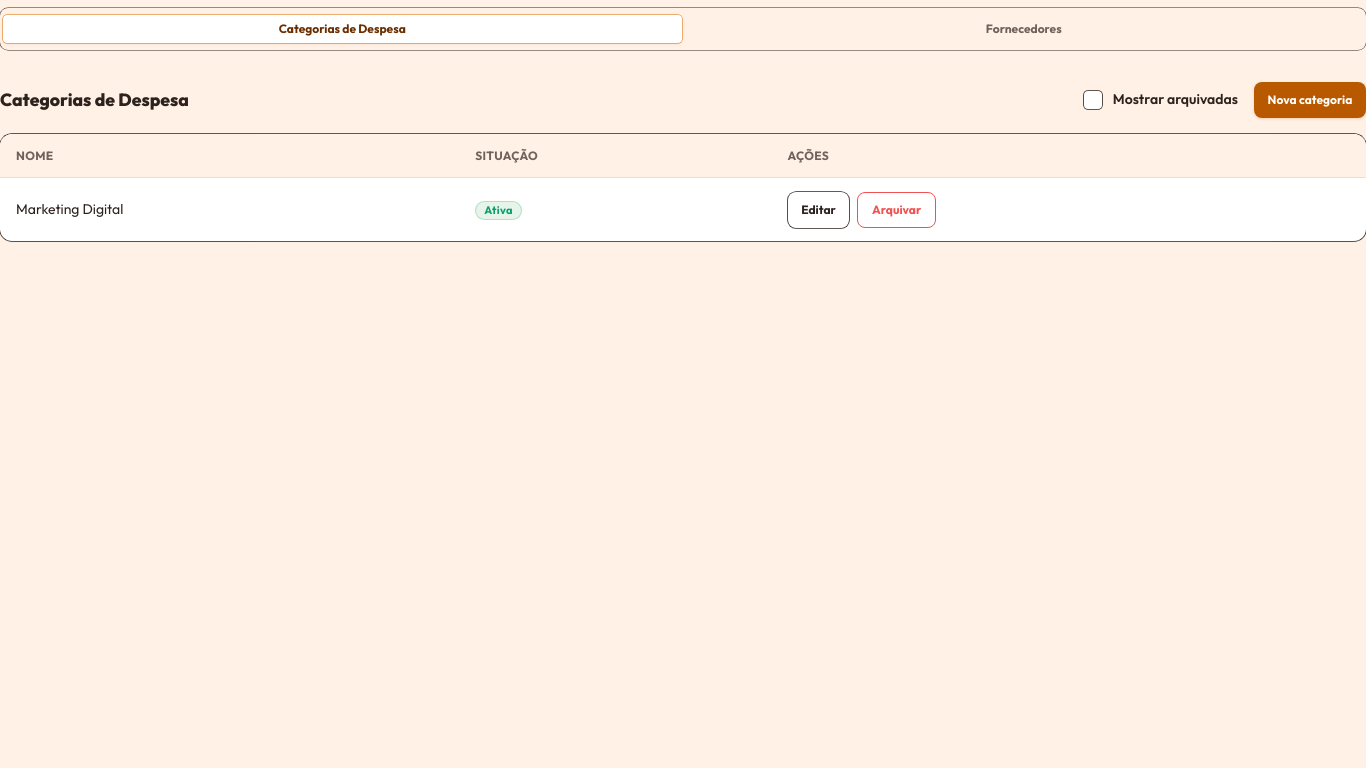
Scenario: PlanoContasTab (adaptador em memória) › ao renomear e colidir com categoria arquivada, não oferece reativar (a reativação não tem relação com a renomeação)
Check: the text "Marketing Digital" is shown, box [0,178,459,241]
Click the button "Editar" at (818, 210), box [788,192,849,228]
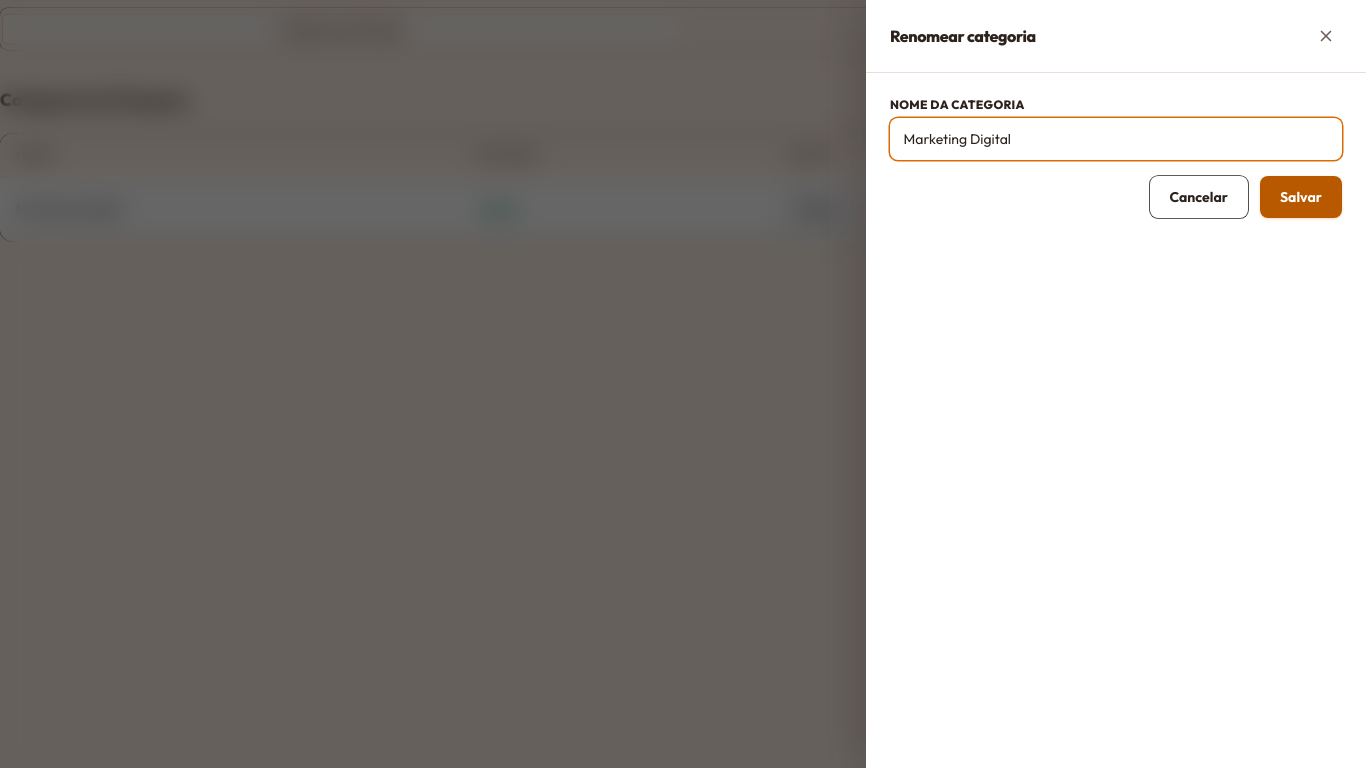
Replace the text in the field labelled "Nome da categoria" with "antiga" at (1116, 139), box [904,121,1328,157]
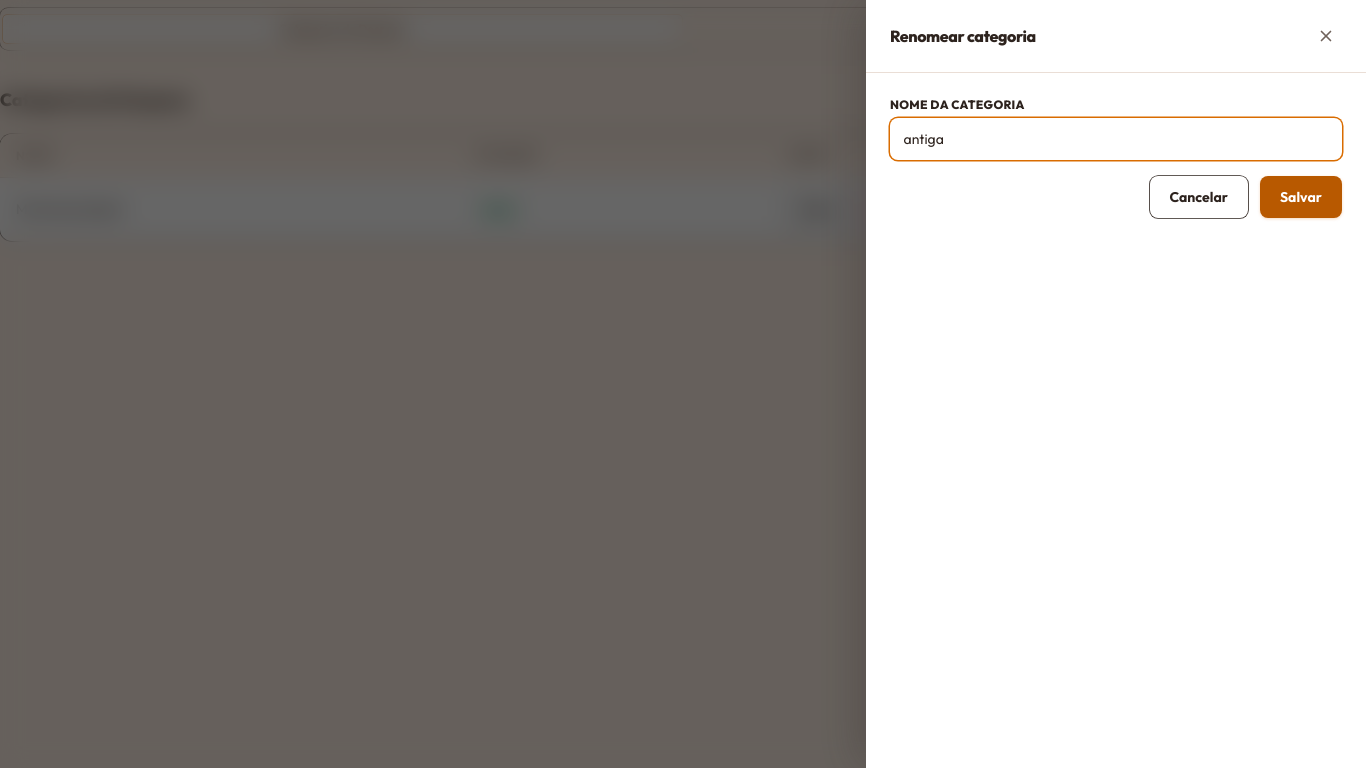
Click the button "Salvar" at (1301, 197), box [1260,176,1342,218]
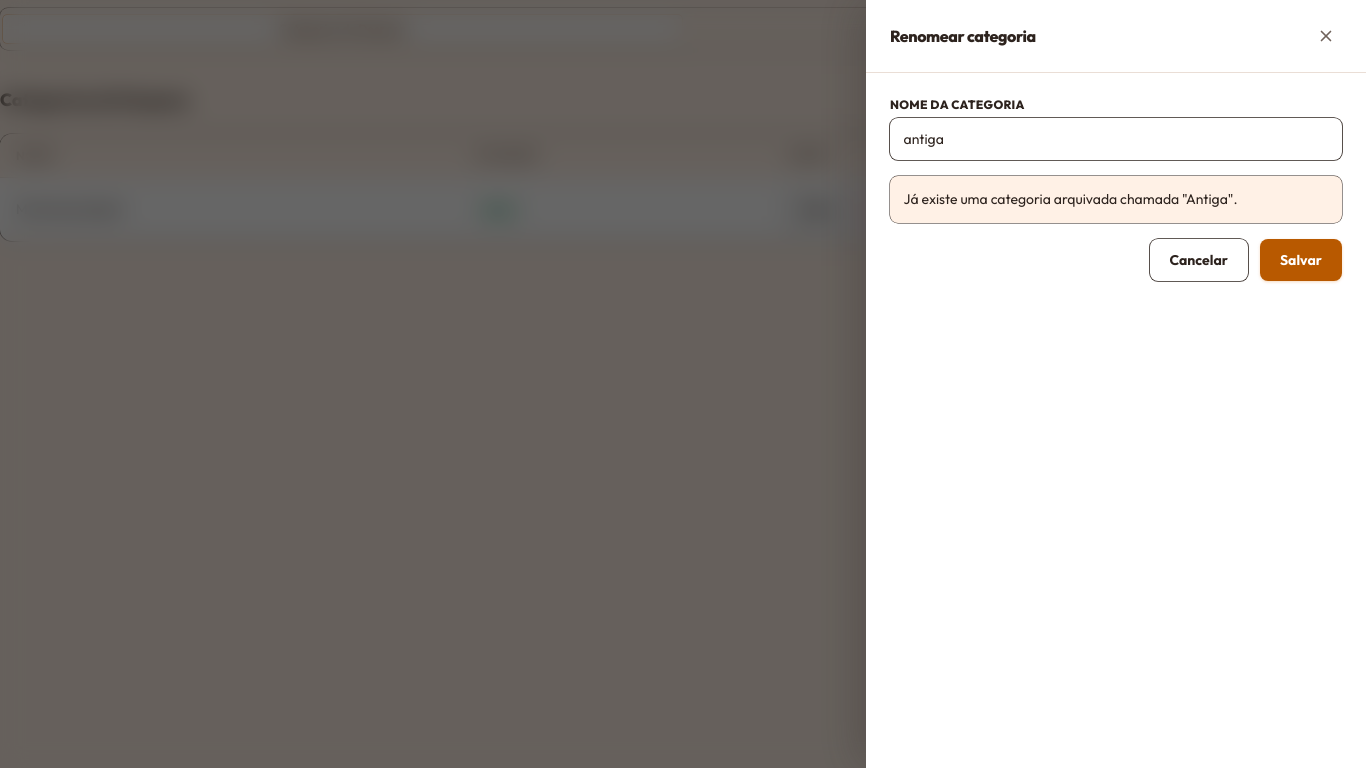
Check: the text "Já existe uma categoria arquivada chamada \"Antiga\"." is shown, box [904,189,1238,209]
Click the button "Cancelar" at (1199, 260), box [1150,239,1248,281]
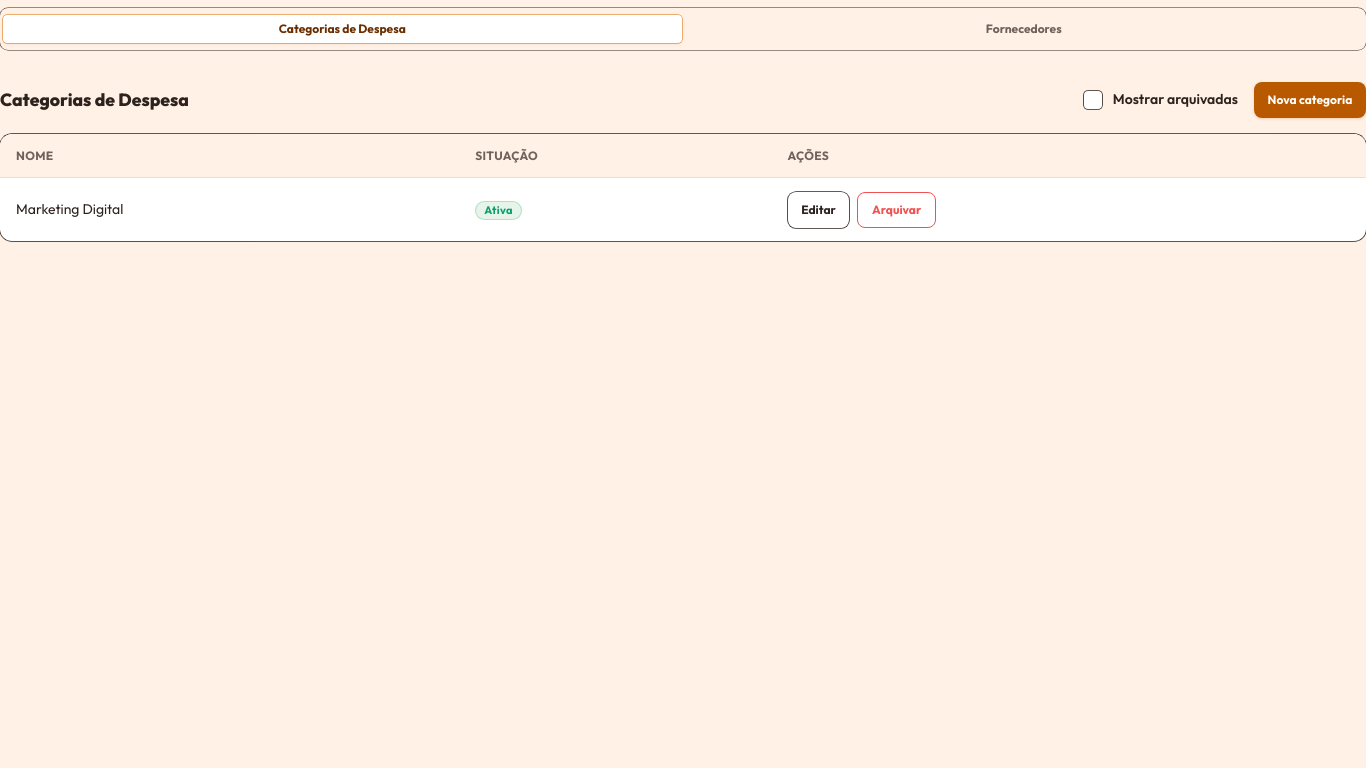
Check: the text "Marketing Digital" is shown, box [0,178,459,241]
Check: the text "Antiga" is gone
